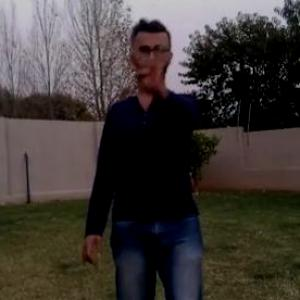takeoff-hand: (133, 47, 174, 89)
